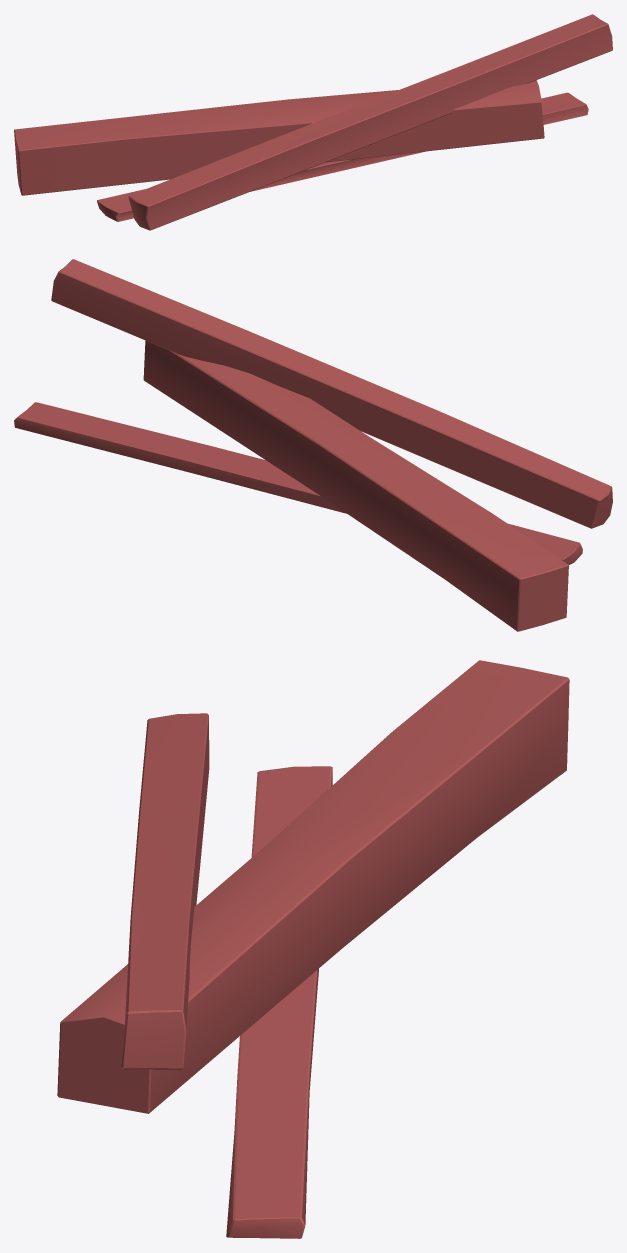
Rendered from Beams_Pile_01_Lod0.fbx.
The picture shows the model from 3 angles, top to bottom: view 1: azimuth 30°, elevation 25°; view 2: azimuth 150°, elevation 25°; view 3: azimuth 270°, elevation 25°; orthographic projection. The views are drawn at different scales.
Parts seen in each view (by area): view 1: Beams_Pile_01_Lod0; view 2: Beams_Pile_01_Lod0; view 3: Beams_Pile_01_Lod0.
Part boxes in pixels (x1,y1,x2,y2): Beams_Pile_01_Lod0: (14,14,612,230); Beams_Pile_01_Lod0: (14,259,612,631); Beams_Pile_01_Lod0: (57,660,569,1238).
Size of the model in its own units: 348 by 74.79 by 152.
